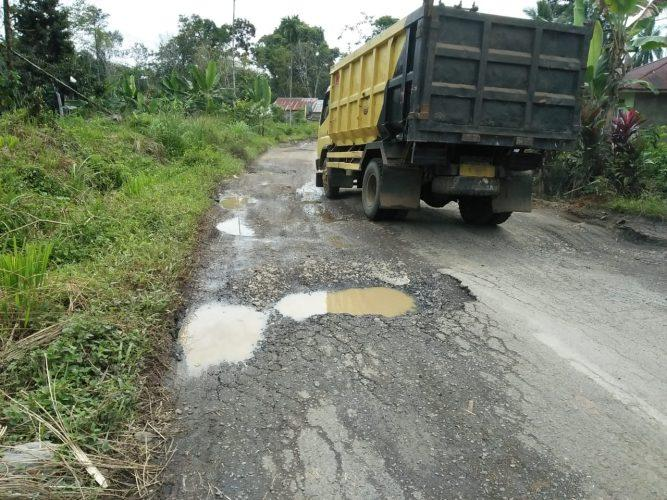Pothole: (242, 272, 498, 326), (196, 166, 362, 249), (176, 295, 276, 393)
